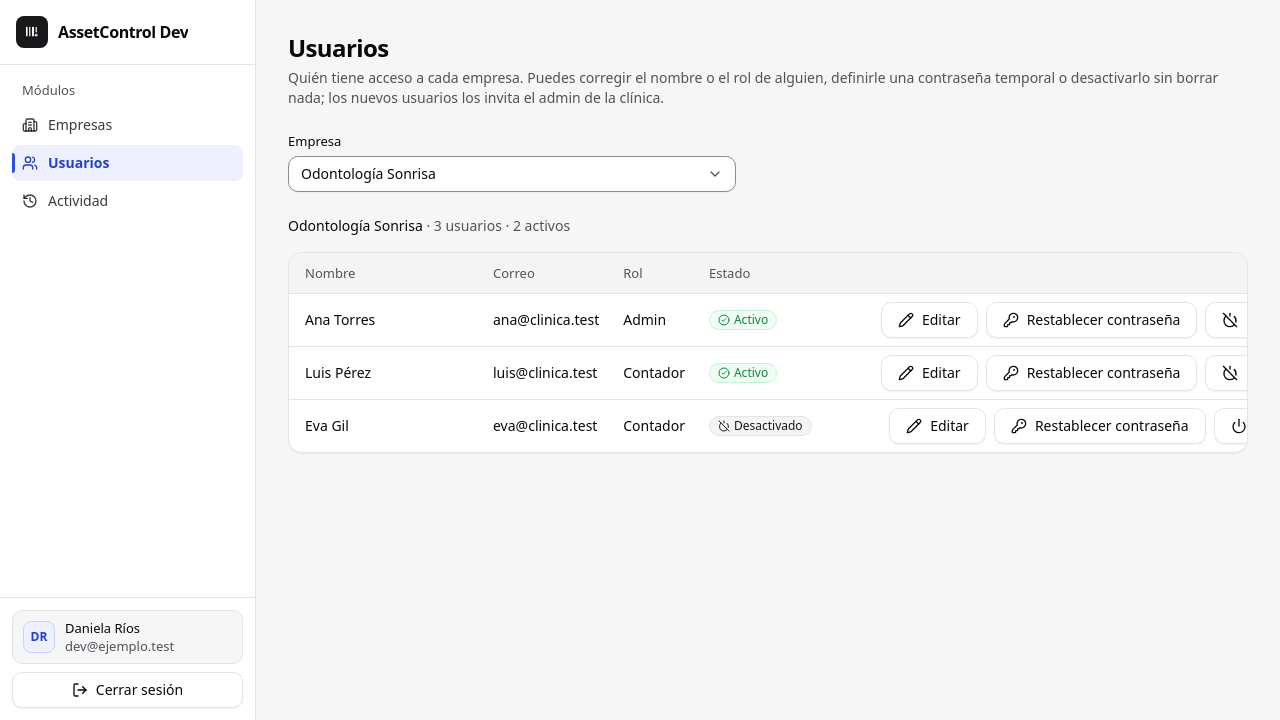
guardar (R47, R49, R50) › volver al valor original (o solo espacios alrededor) deja «Guardar» deshabilitado
The width and height of the screenshot is (1280, 720).
Click the button with aria-label "Editar a Luis Pérez".
click(929, 372)  # box [881, 354, 978, 390]
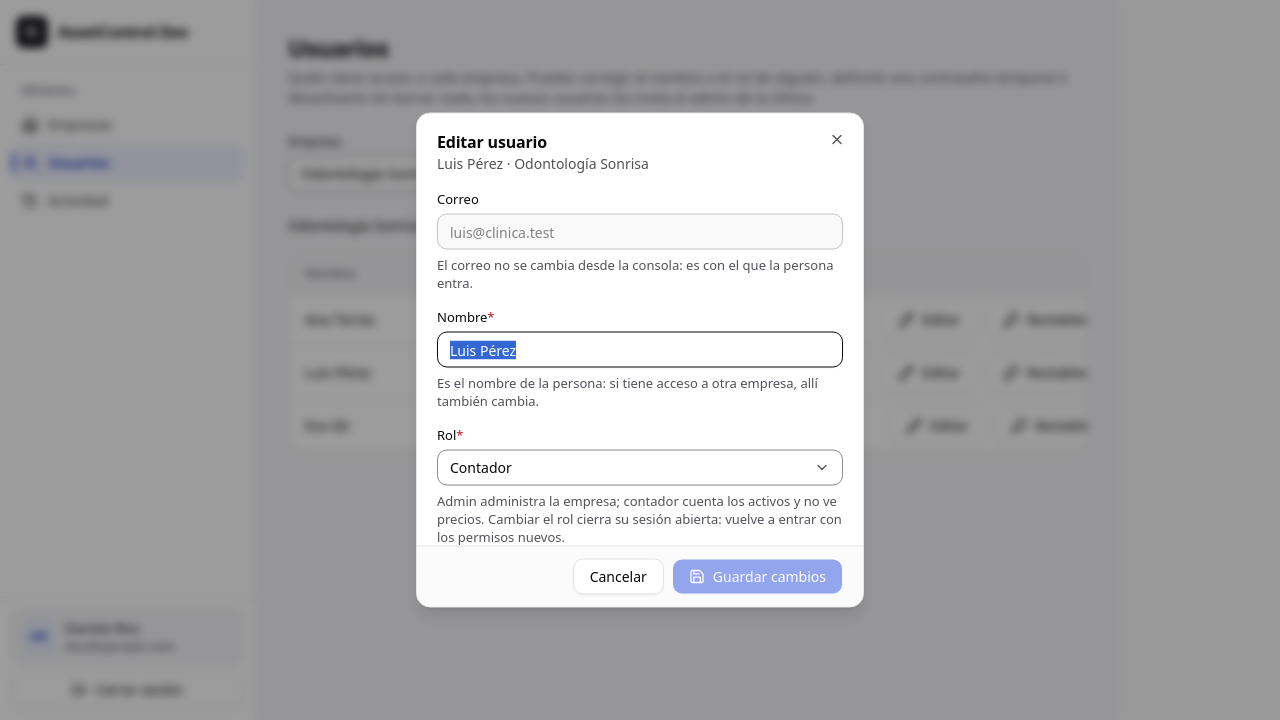
Replace the text in the field labelled "Nombre*" with "Luis" at (640, 350), box [437, 332, 843, 368]
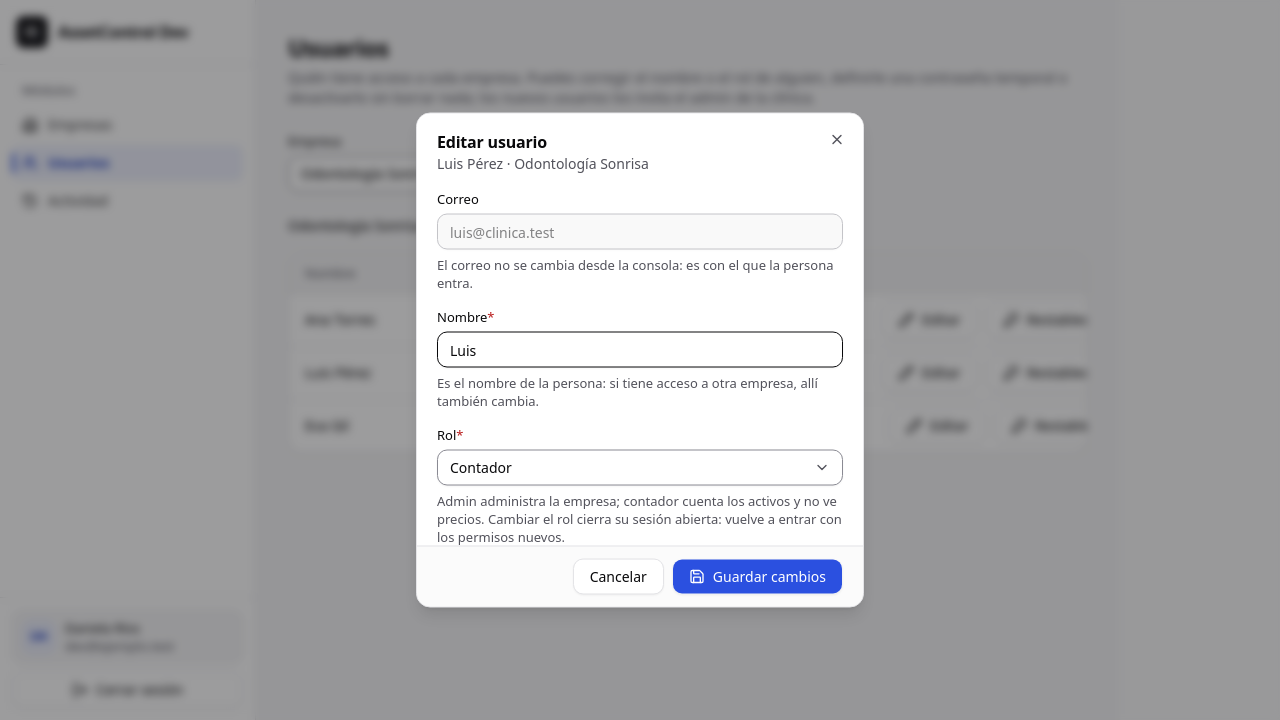
Check: the button "Guardar cambios" is enabled, box [672, 558, 843, 594]
Replace the text in the field labelled "Nombre*" with " Luis Pérez " at (640, 350), box [437, 332, 843, 368]
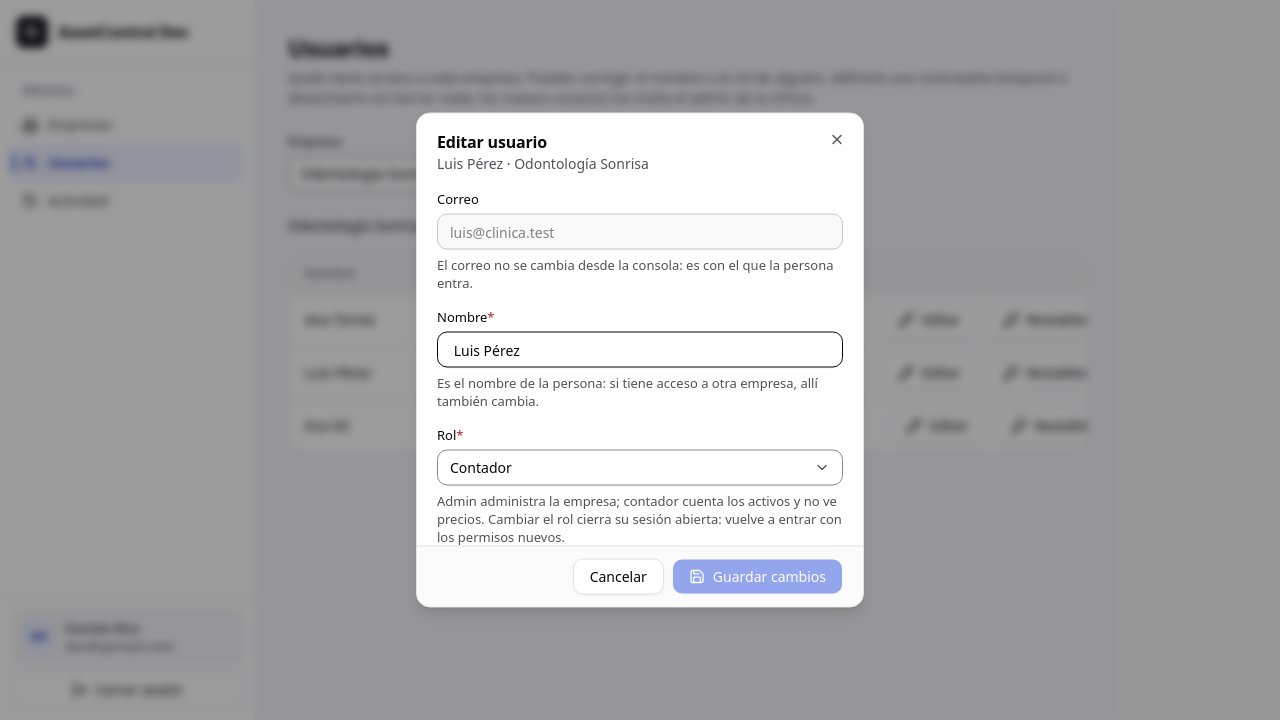
Check: the button "Guardar cambios" is disabled, box [672, 558, 843, 594]
